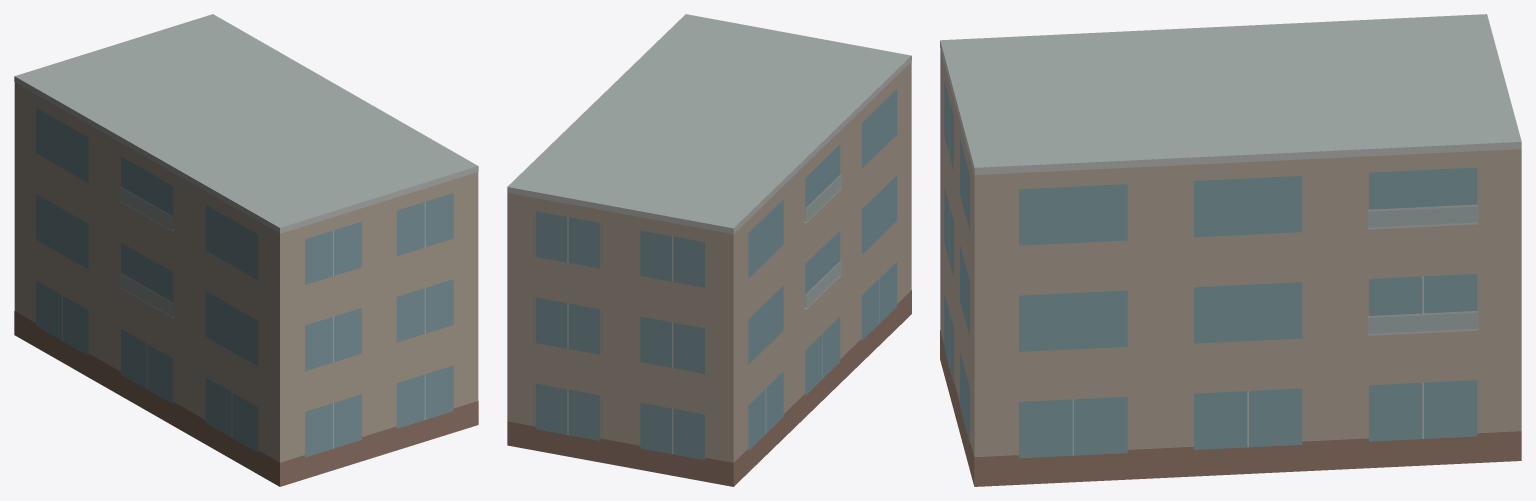
Rendered from survey-upis-32885718.glb.
The picture shows the model from 3 angles, left to right: view 1: azimuth 30°, elevation 25°; view 2: azimuth 150°, elevation 25°; view 3: azimuth 270°, elevation 25°; orthographic projection. The views are drawn at different scales.
Visible parts, largest first — view 1: survey-upis-32885718.tmp; view 2: survey-upis-32885718.tmp; view 3: survey-upis-32885718.tmp.
Part boxes in pixels (x1=…): survey-upis-32885718.tmp: x1=14, y1=14, x2=478, y2=486; survey-upis-32885718.tmp: x1=507, y1=14, x2=911, y2=486; survey-upis-32885718.tmp: x1=940, y1=14, x2=1521, y2=486.
Bounding box in the file's own units: 11.18 × 10.8 × 17.86.
